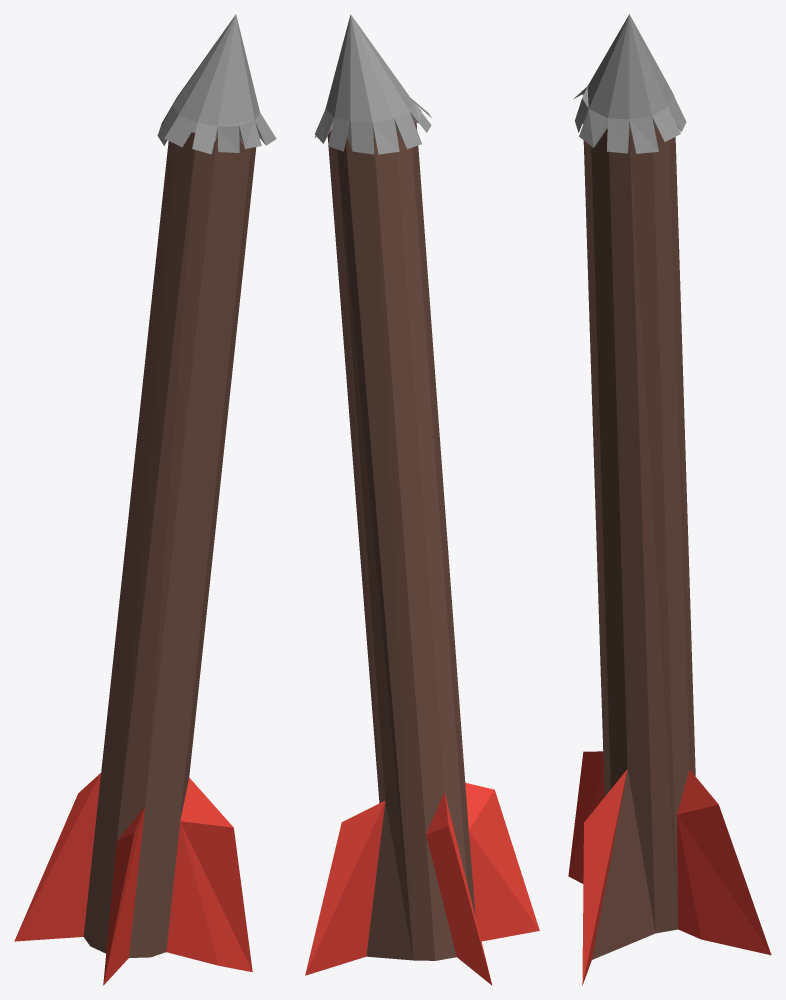
Rendered from Rocket.fbx.
The picture shows the model from 3 angles, left to right: view 1: azimuth 30°, elevation 25°; view 2: azimuth 150°, elevation 25°; view 3: azimuth 270°, elevation 25°; orthographic projection. The views are drawn at different scales.
Visible parts, largest first — view 1: mesh_1444769237; view 2: mesh_1444769237; view 3: mesh_1444769237.
Boxes of the visible parts, x1,y1,x2,y2 form: mesh_1444769237: (14, 14, 276, 985); mesh_1444769237: (305, 14, 539, 985); mesh_1444769237: (568, 14, 771, 985).
Bounding box in the file's own units: 22.15 × 93.94 × 17.75.
